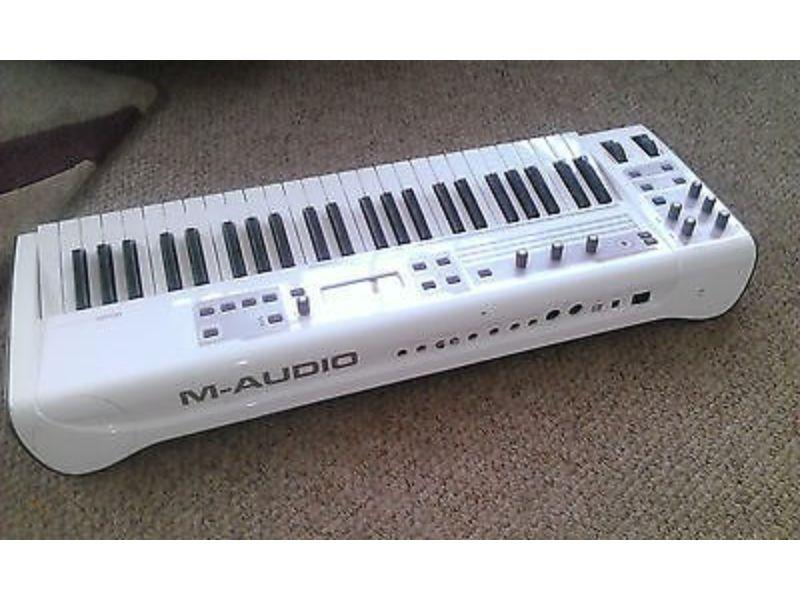synthesizer: (15, 112, 775, 475)
